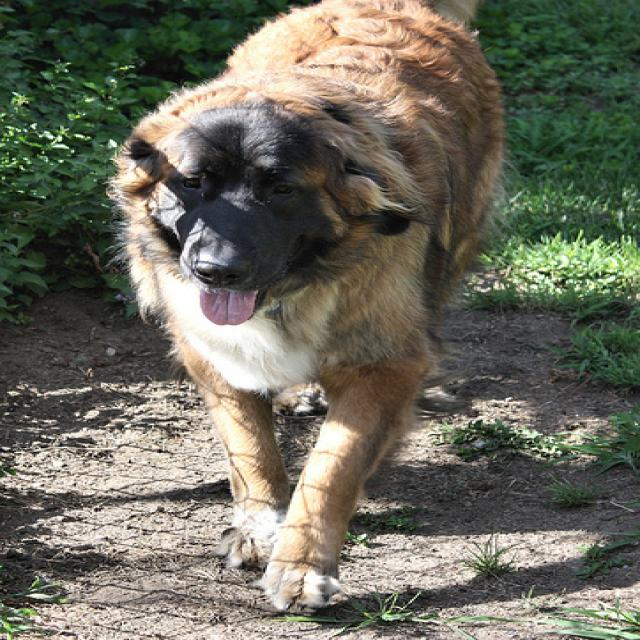dog-leonberger: (87, 1, 522, 630)
